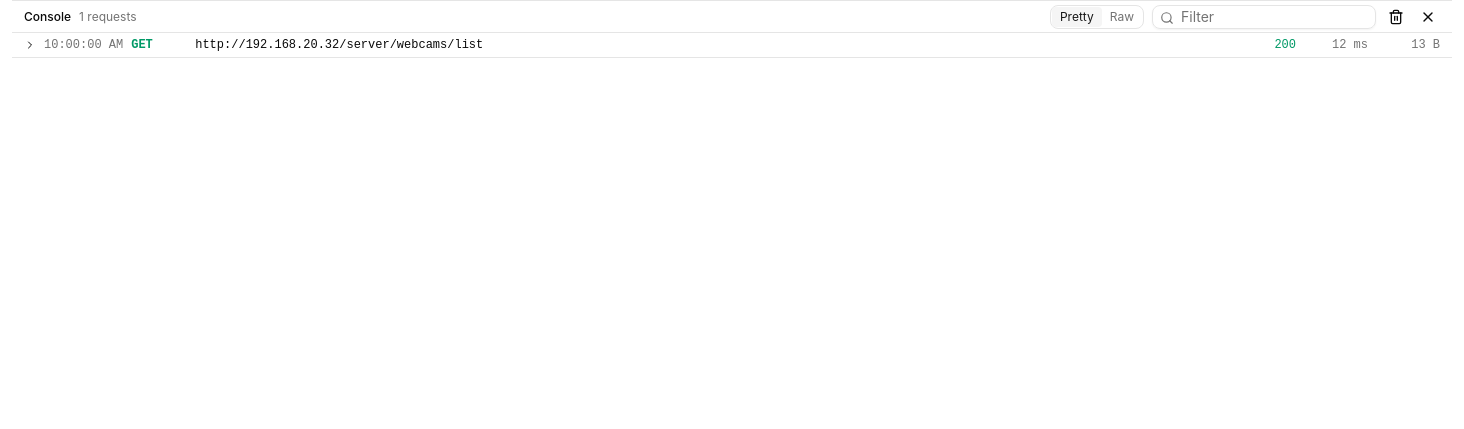
Test: ConsolePanel › says when a request went through the proxy
Click the text "http://192.168.20.32/server/webcams/list": point(339, 45) [195,38,483,52]
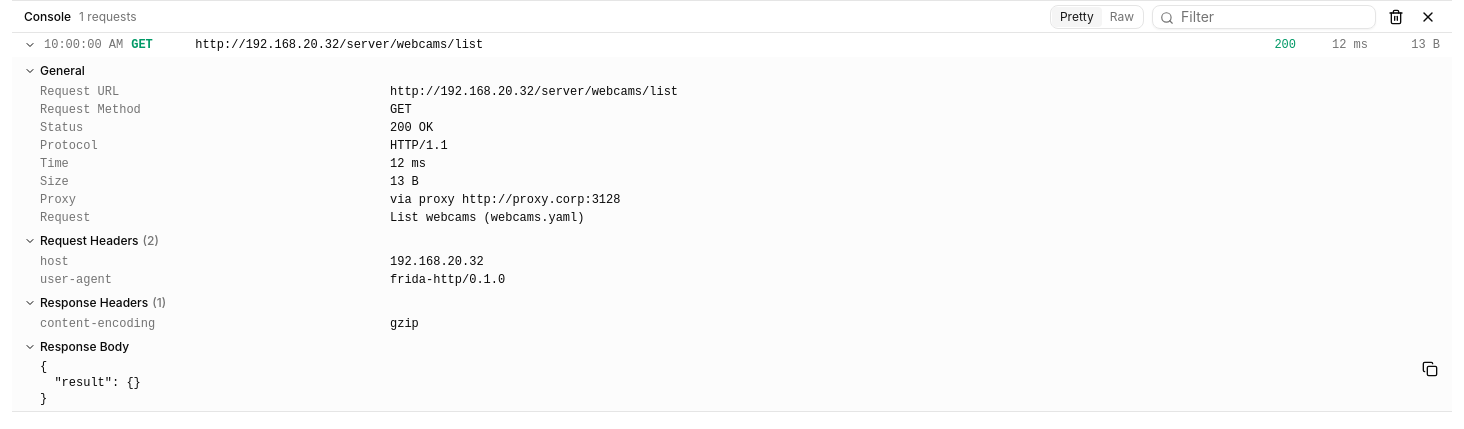
Check: the text "Proxy" is shown, box [40,191,390,209]
Check: the text "via proxy http://proxy.corp:3128" is shown, box [390,191,1440,209]
